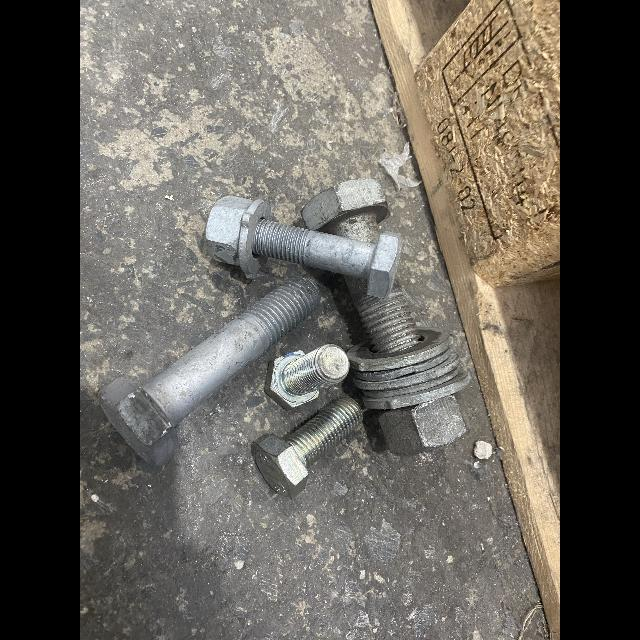Ferrous Metal: (256, 397, 363, 499), (264, 344, 350, 411)
Galvanized Steel: (100, 275, 320, 465), (342, 276, 473, 455), (206, 195, 403, 298), (301, 178, 390, 242)
